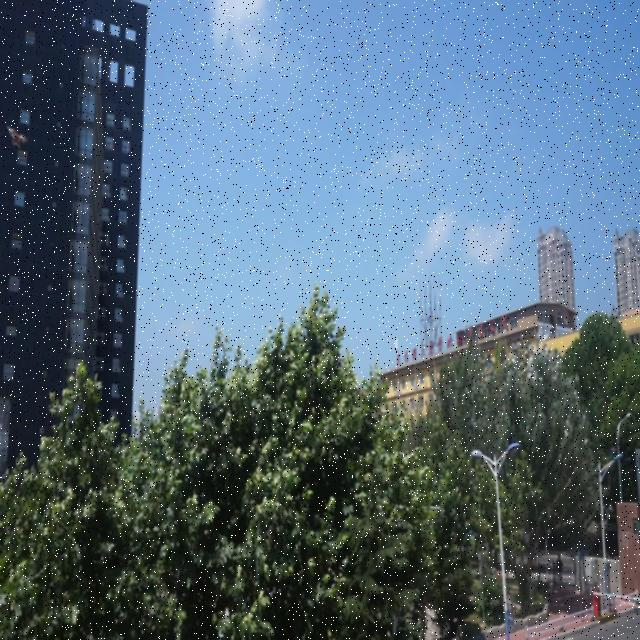UAV: (7, 125, 27, 148)
